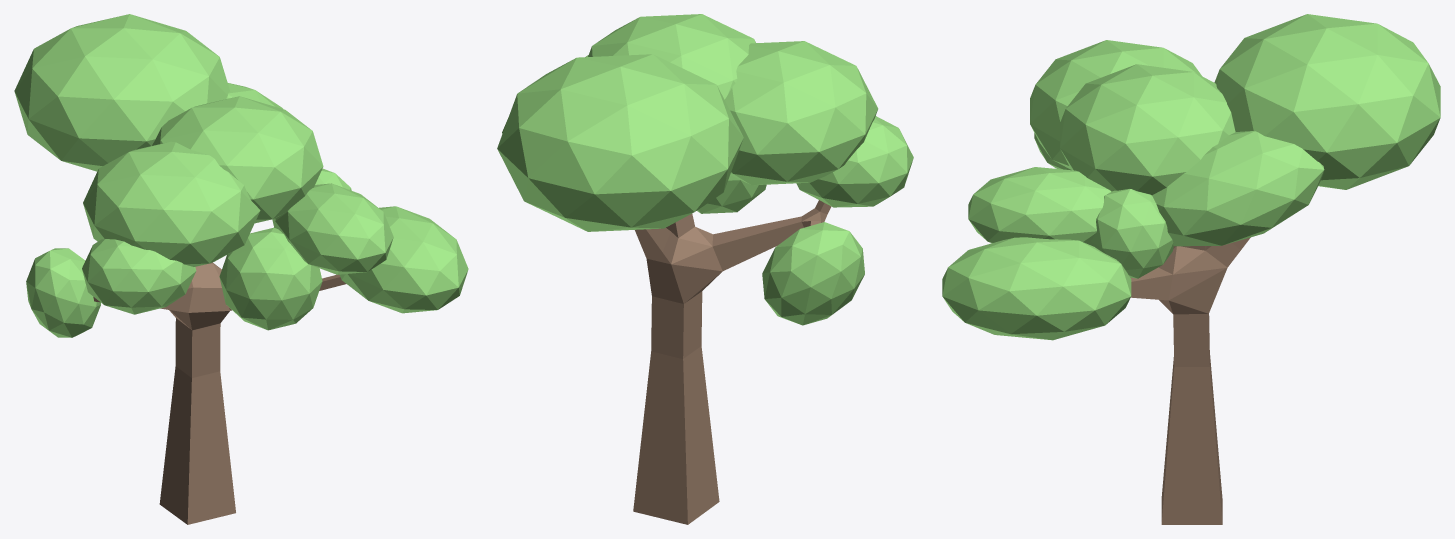
The model's file is tree 2.fbx.
3 renders of one model, left to right at view 1: azimuth 30°, elevation 25°; view 2: azimuth 150°, elevation 25°; view 3: azimuth 270°, elevation 25°, orthographic. The views are drawn at different scales.
Visible parts, largest first — view 1: tree 2; view 2: tree 2; view 3: tree 2.
Boxes of the visible parts, box(x1,y1,x2,y2) form: tree 2: box(14, 14, 468, 524); tree 2: box(497, 14, 913, 524); tree 2: box(942, 14, 1440, 524).
Size of the model in its own units: 1374 by 1665 by 1575.
